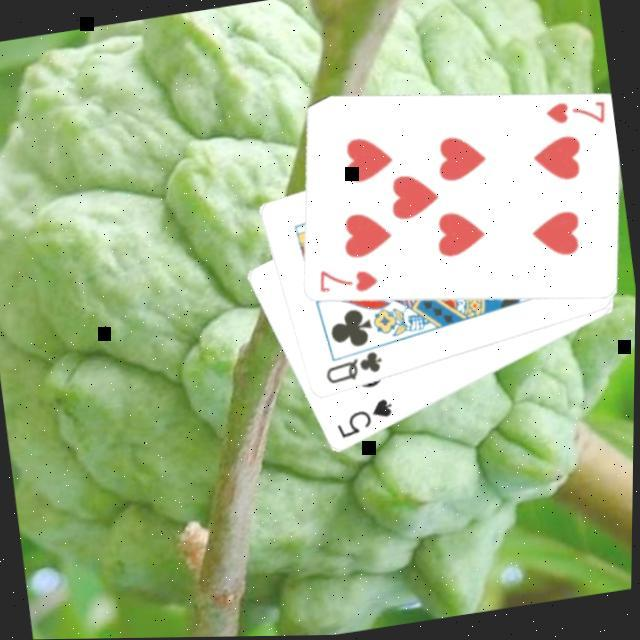5S: (331, 394, 401, 444)
7H: (314, 258, 384, 302), (542, 93, 612, 137)
QC: (321, 348, 389, 390)
